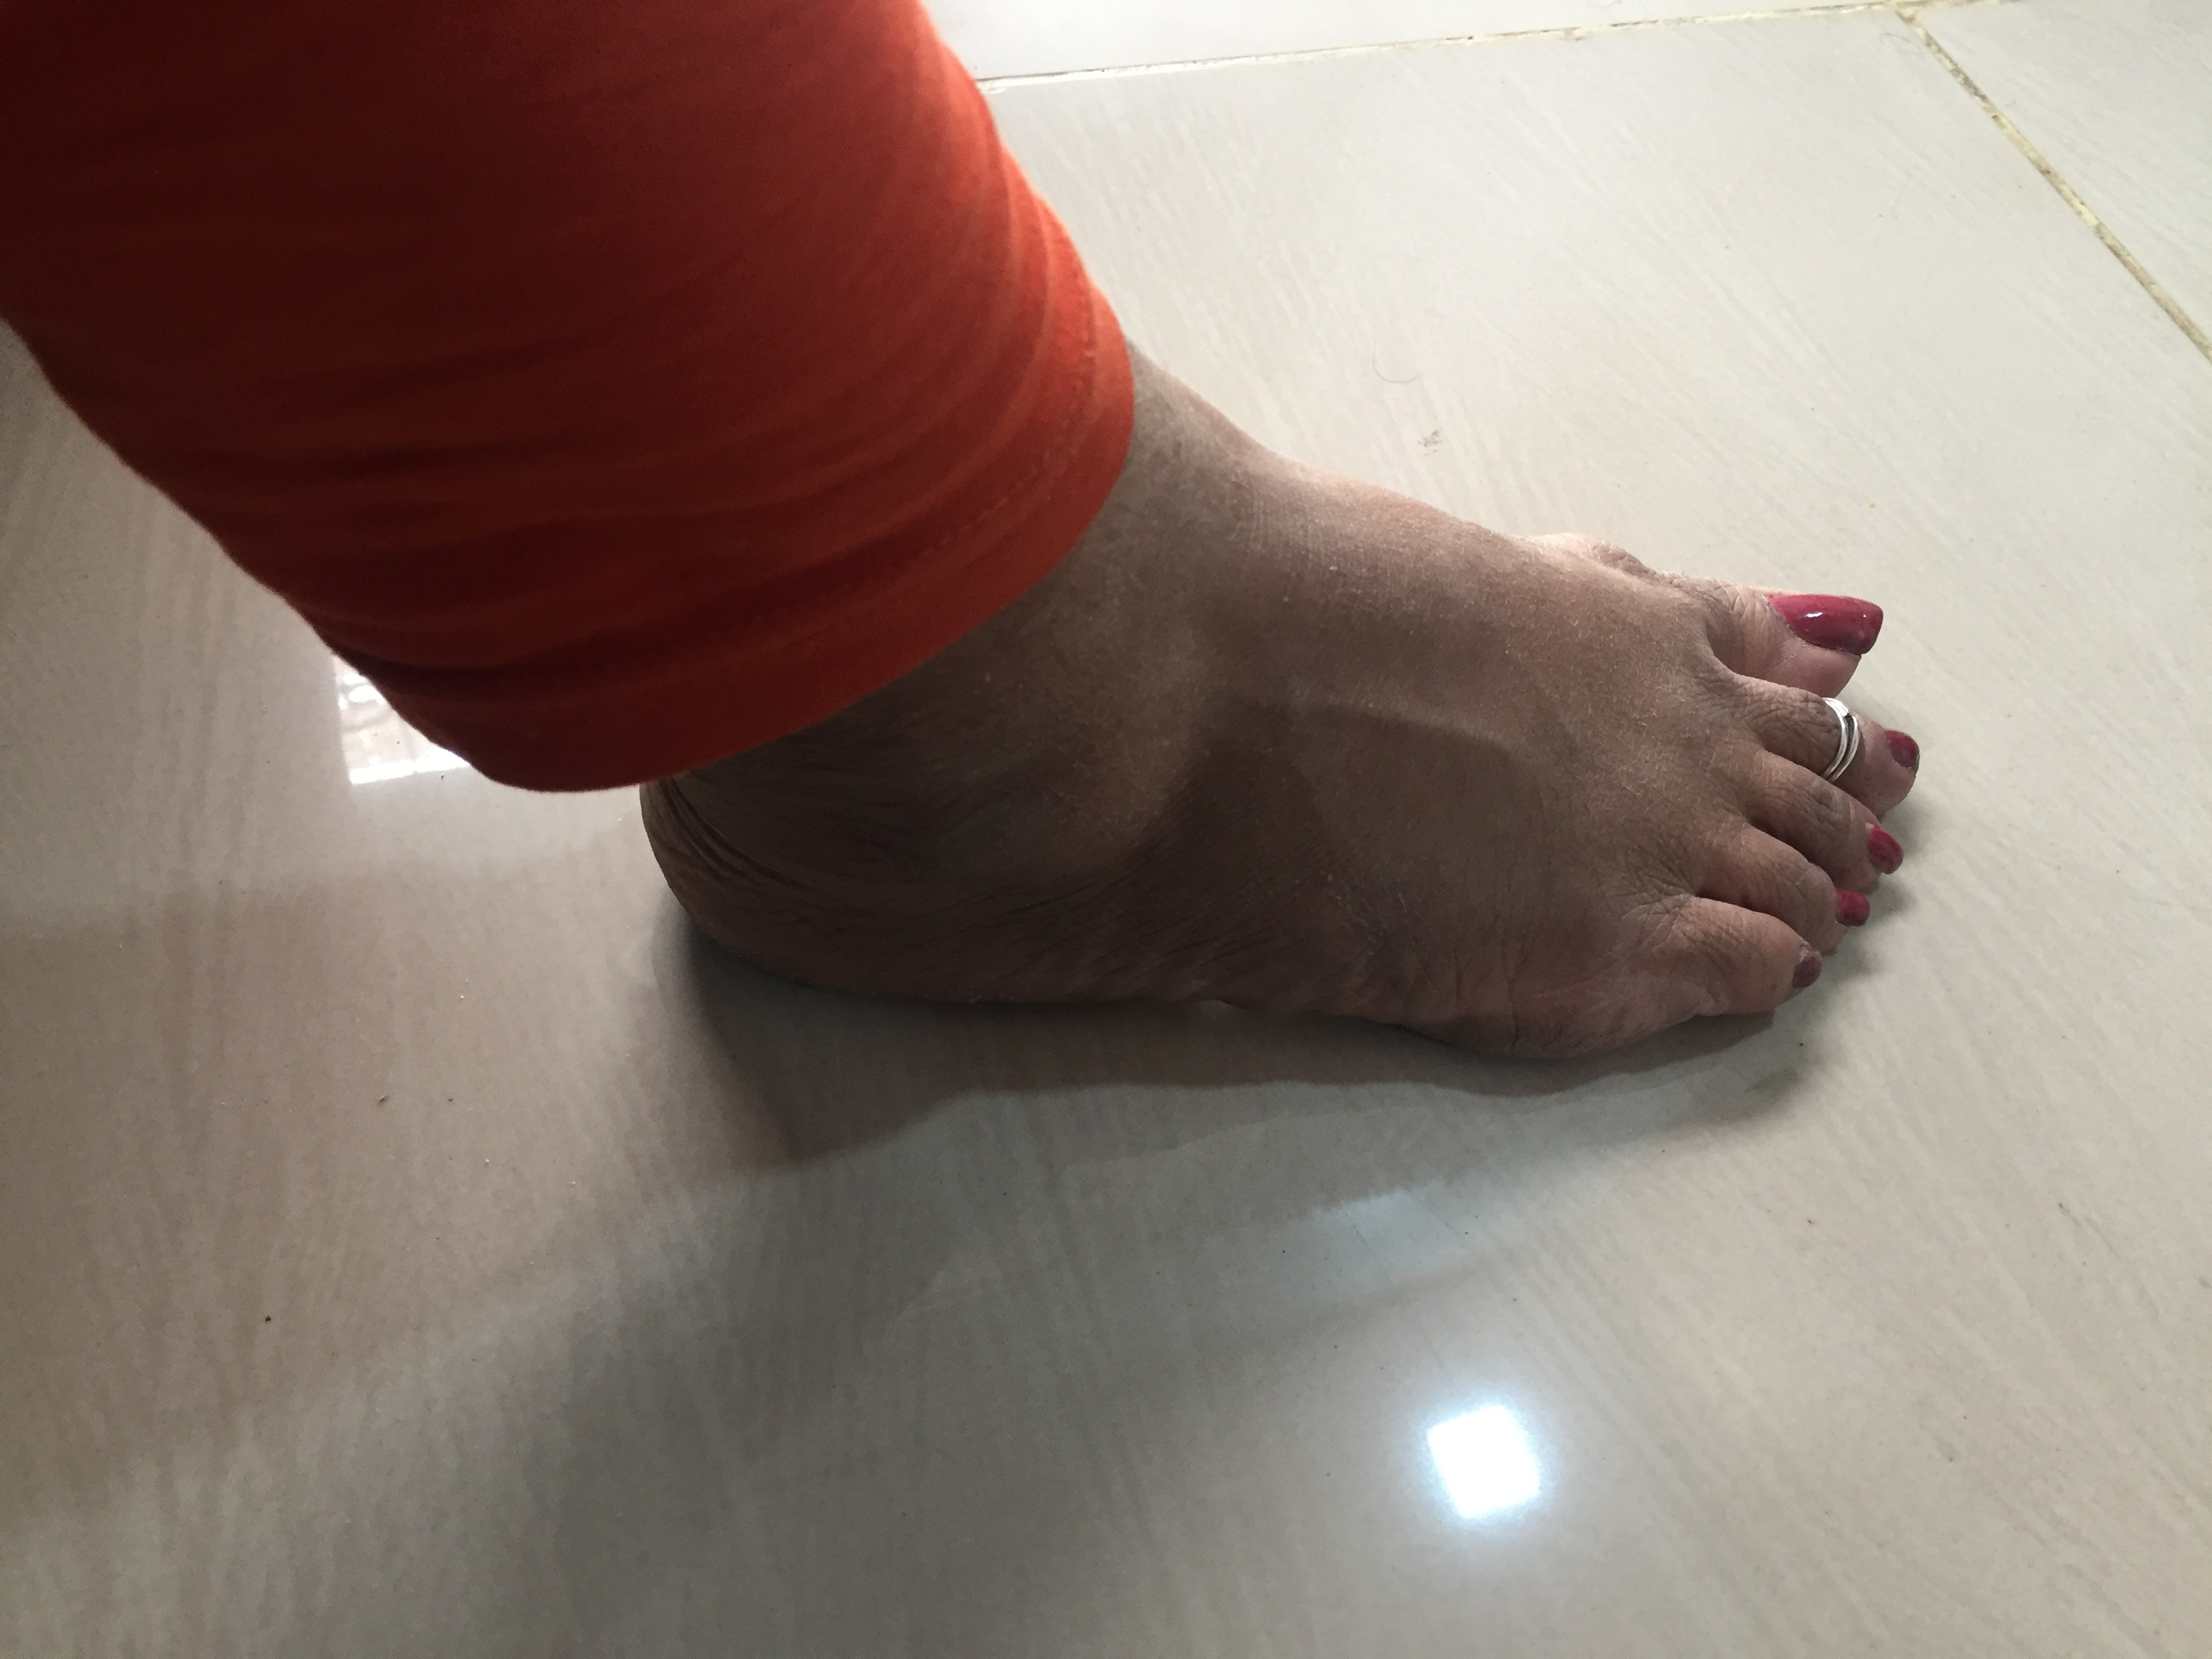feet: (517, 324, 1932, 1070)
